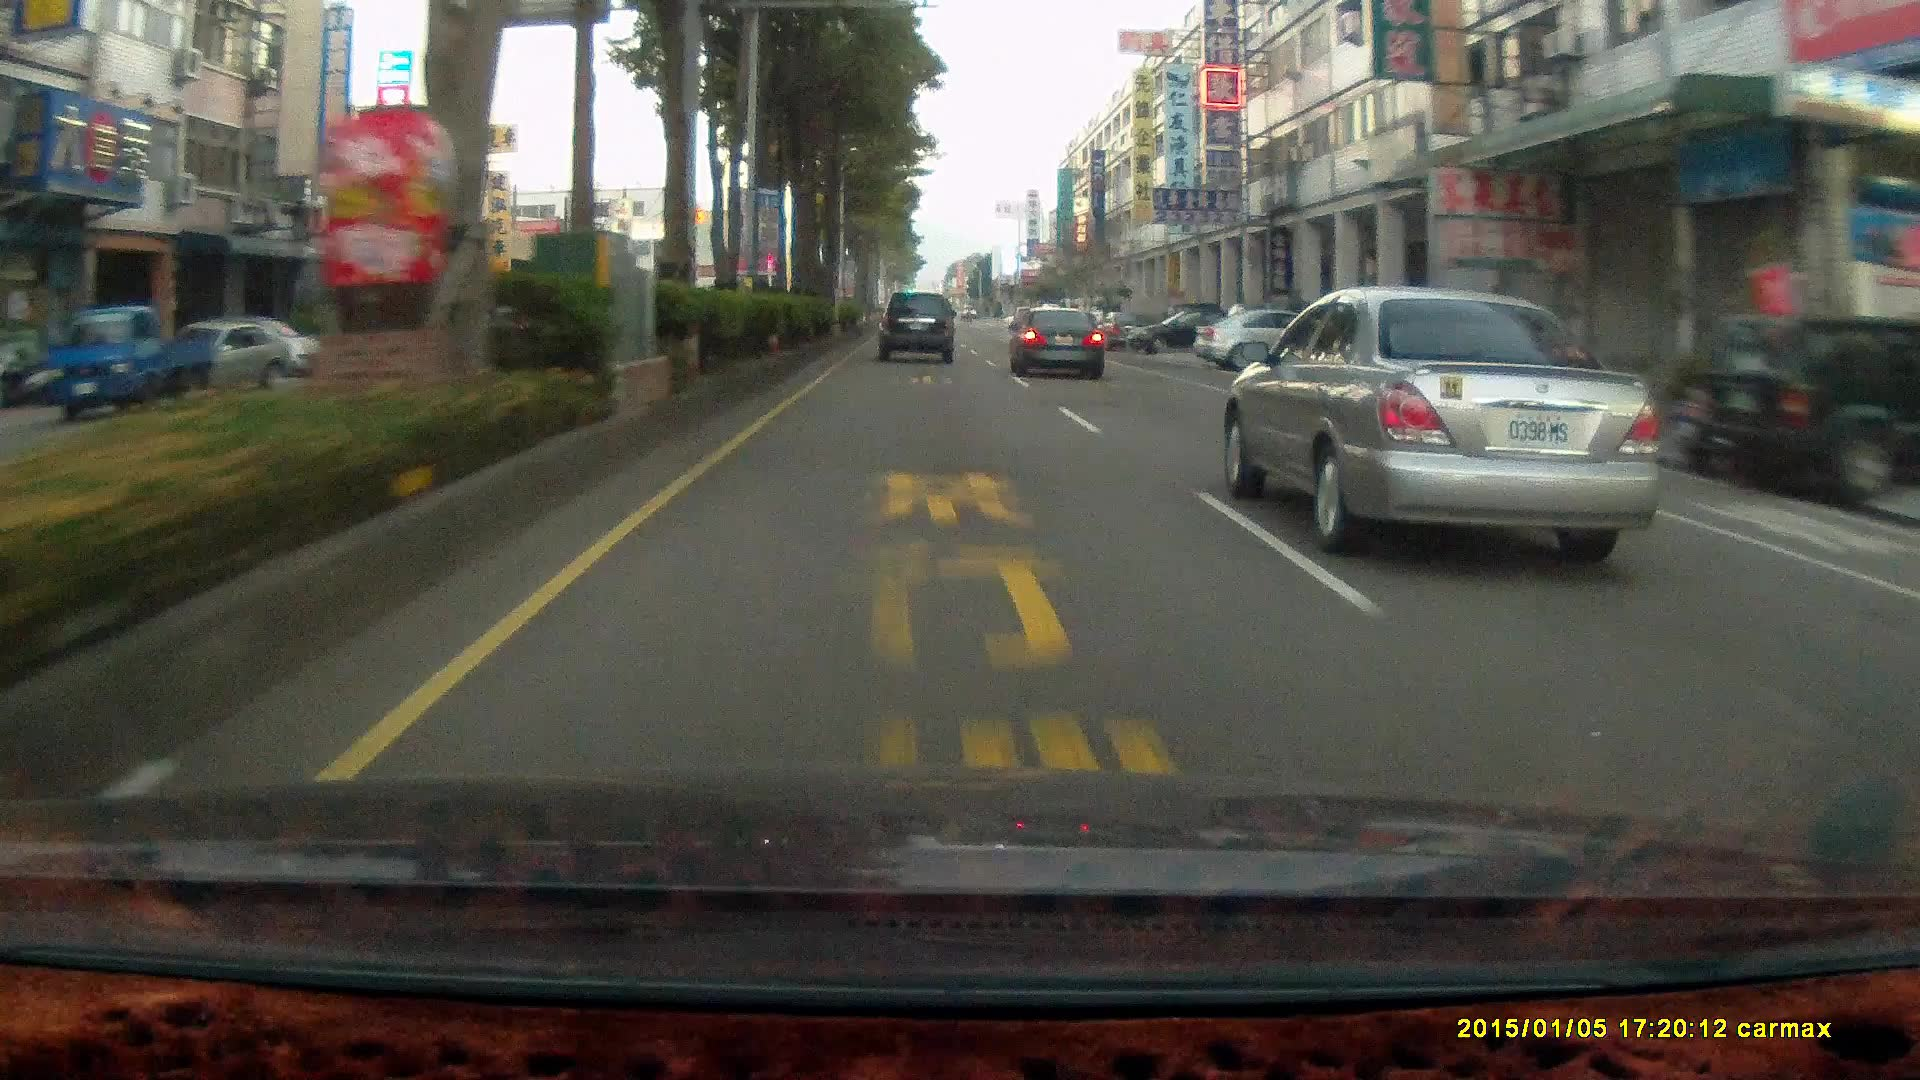vehicle: (1226, 286, 1687, 556), (1679, 314, 1920, 504), (1695, 311, 1919, 502), (44, 305, 214, 421), (1335, 313, 1494, 429), (62, 309, 216, 415), (145, 320, 295, 396), (1193, 309, 1360, 373), (1006, 303, 1105, 377), (1010, 305, 1108, 378), (876, 293, 957, 368), (1125, 305, 1246, 353), (876, 293, 957, 364)
